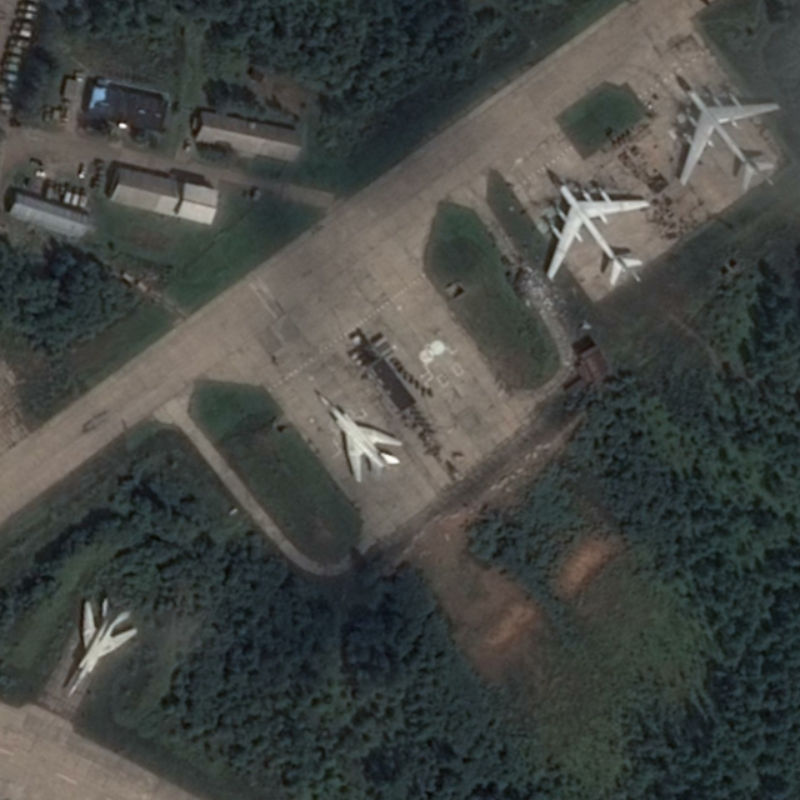A12: (310, 387, 405, 483), (64, 595, 139, 699)
A17: (540, 178, 653, 292), (669, 82, 783, 194)
